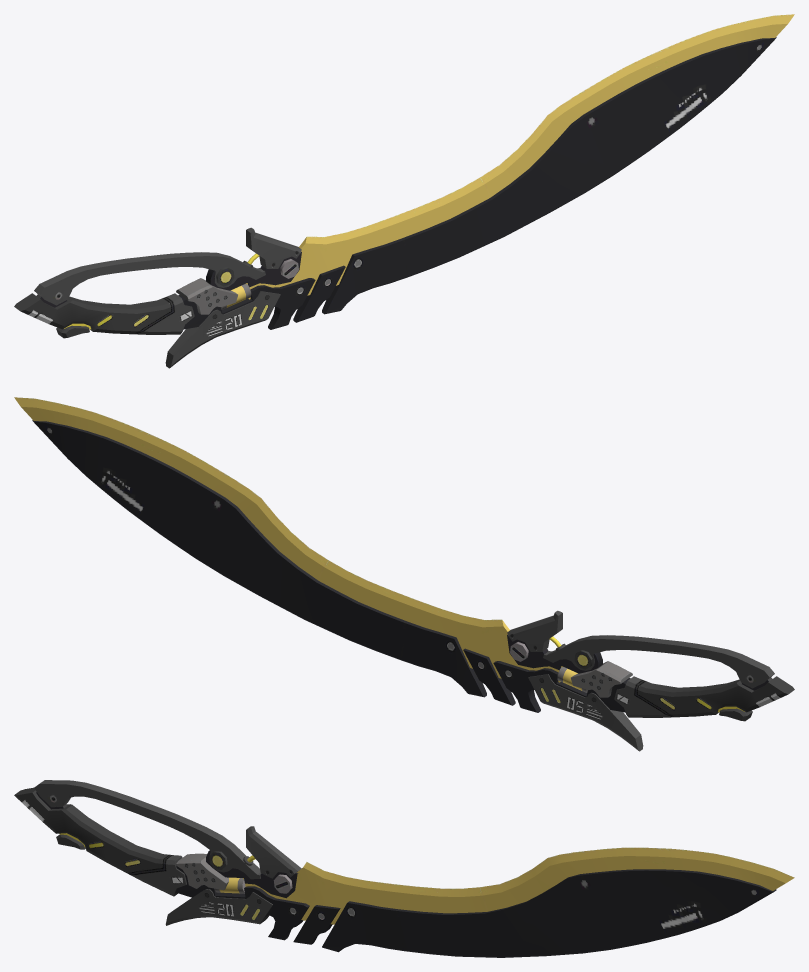
Rendered from E3DaggerMd070011 #468034.fbx.
3 views of the same model, one above another, from view 1: azimuth 30°, elevation 25°; view 2: azimuth 150°, elevation 25°; view 3: azimuth 330°, elevation 25° (orthographic).
Visible parts, largest first — view 1: E3DaggerMd0700112, E3DaggerMd0700111, E3DaggerMd0700113; view 2: E3DaggerMd0700112, E3DaggerMd0700111, E3DaggerMd0700113; view 3: E3DaggerMd0700112, E3DaggerMd0700111, E3DaggerMd0700113.
Part boxes in pixels (box(x1,y1,x2,y2)): E3DaggerMd0700112: box(178, 37, 776, 329); E3DaggerMd0700111: box(14, 227, 301, 368); E3DaggerMd0700113: box(64, 14, 794, 329); E3DaggerMd0700112: box(32, 420, 630, 712); E3DaggerMd0700111: box(507, 610, 794, 751); E3DaggerMd0700113: box(14, 397, 744, 712); E3DaggerMd0700112: box(176, 850, 776, 957); E3DaggerMd0700111: box(14, 780, 301, 925); E3DaggerMd0700113: box(59, 833, 794, 924).
Bounding box in the file's own units: 0.643 × 0.1621 × 0.0175.
Materials: 3 (3 with a texture image).
